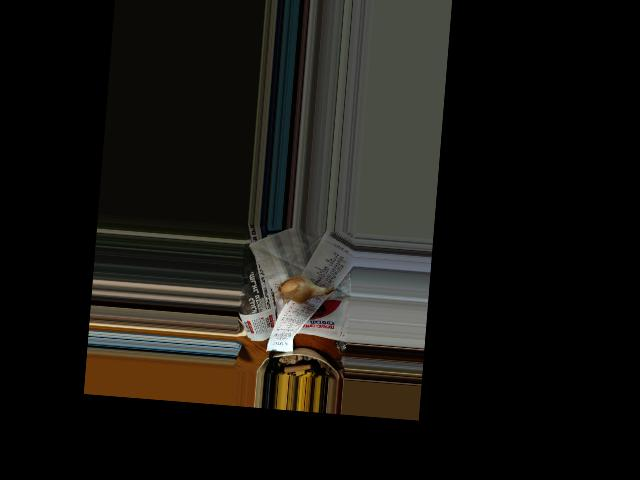onion: (279, 277, 316, 303)
